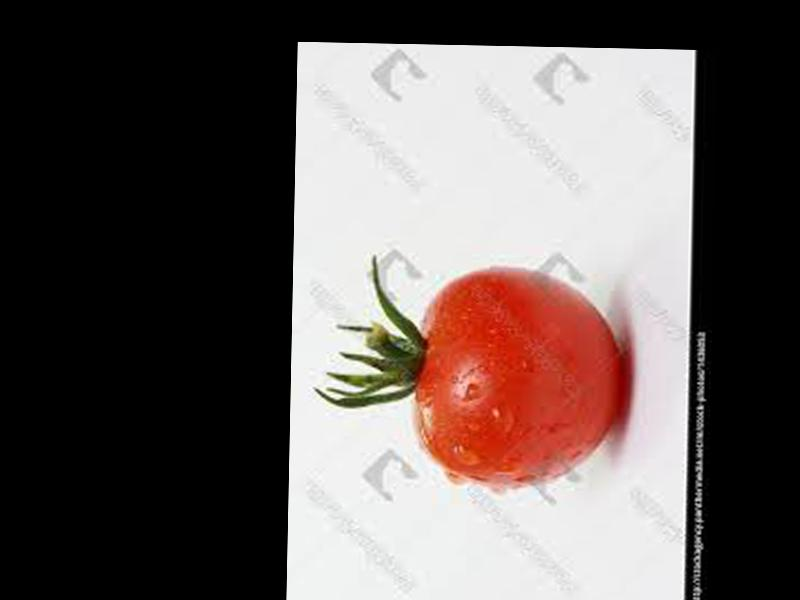Tomato: (414, 265, 626, 484)
